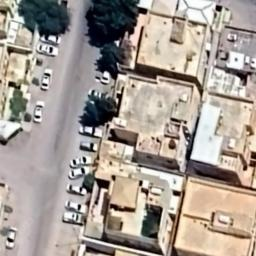SUV: (58, 212, 86, 226)
sedan: (78, 122, 104, 140), (62, 165, 90, 180), (37, 30, 63, 46), (35, 42, 61, 58), (39, 68, 53, 92), (87, 87, 108, 103), (63, 199, 87, 213), (68, 156, 95, 168), (6, 226, 18, 250), (100, 62, 112, 86), (65, 184, 89, 196), (34, 100, 44, 124)
van: (77, 140, 100, 154)
